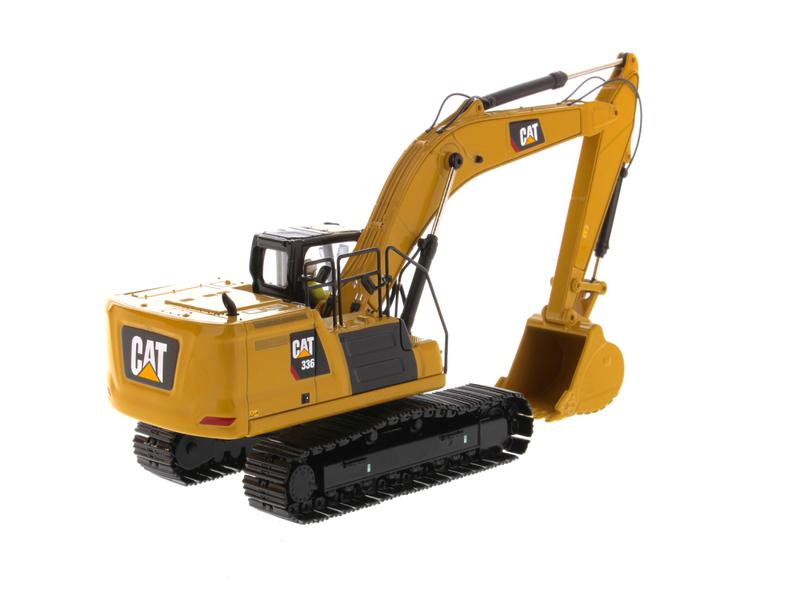shovel: (100, 49, 658, 525)
